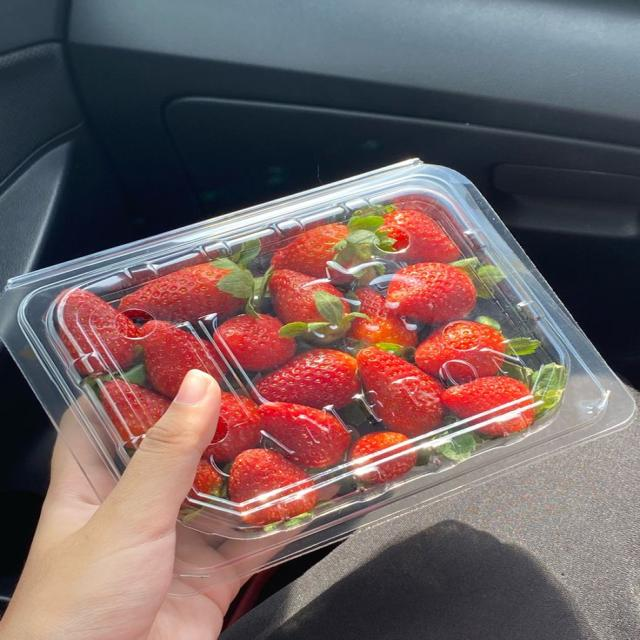strawberry: (357, 347, 445, 437), (120, 263, 248, 322), (57, 290, 139, 375), (228, 449, 318, 525), (269, 270, 358, 343), (141, 321, 226, 397), (256, 350, 359, 408), (260, 402, 351, 467), (415, 320, 506, 383), (387, 263, 476, 324), (443, 377, 534, 436), (214, 314, 296, 371), (269, 270, 349, 324), (380, 209, 459, 262), (101, 380, 169, 441), (348, 288, 417, 348), (272, 224, 349, 277), (206, 393, 261, 463), (350, 432, 417, 484), (194, 459, 224, 495)
